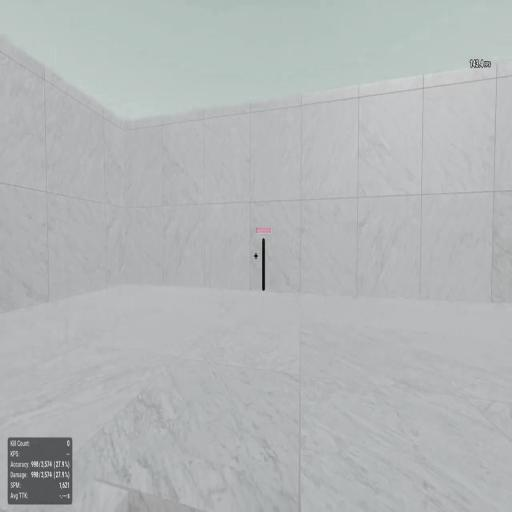Crosshair: (254, 252, 258, 261)
Target: (262, 238, 265, 291)
